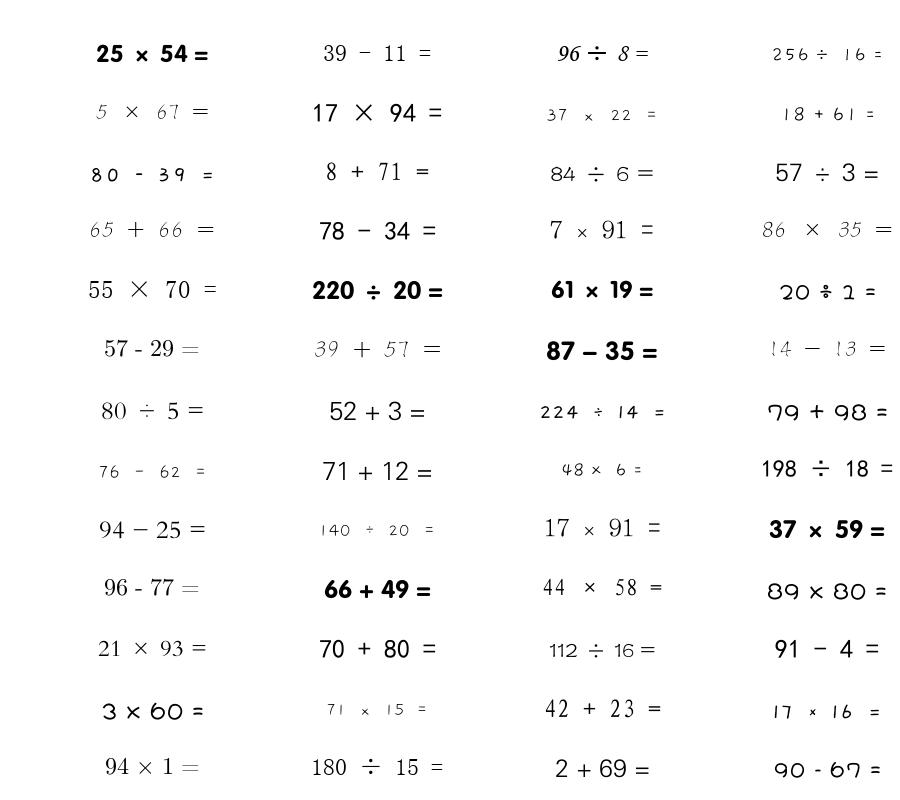MQ: (312, 280, 443, 300), (312, 103, 442, 122), (319, 639, 436, 659), (769, 519, 885, 539), (761, 460, 893, 477), (311, 758, 443, 775), (546, 341, 658, 361), (319, 221, 436, 240), (544, 518, 661, 537), (544, 699, 661, 718), (88, 281, 217, 298), (542, 578, 662, 596), (314, 341, 441, 358), (324, 579, 431, 599), (96, 44, 208, 63), (322, 461, 433, 480), (762, 221, 893, 237), (767, 404, 888, 421), (767, 583, 887, 600), (89, 221, 215, 237), (325, 162, 429, 181), (775, 163, 879, 182), (550, 220, 654, 239), (775, 639, 879, 658), (329, 401, 426, 421), (551, 280, 653, 299), (99, 521, 206, 539), (89, 167, 215, 182), (768, 341, 886, 357), (101, 402, 204, 420), (101, 702, 204, 720), (98, 640, 207, 657), (774, 761, 881, 778), (96, 104, 209, 120), (555, 759, 650, 778), (539, 405, 666, 419), (323, 45, 431, 61), (104, 339, 200, 357), (104, 578, 200, 596), (105, 757, 200, 775), (550, 166, 654, 182), (772, 704, 882, 719), (549, 643, 655, 658), (771, 48, 883, 62), (779, 284, 876, 300), (318, 524, 436, 537), (98, 465, 207, 479), (546, 109, 658, 122), (780, 107, 875, 122), (556, 46, 648, 61), (326, 703, 428, 716), (561, 463, 643, 477)
